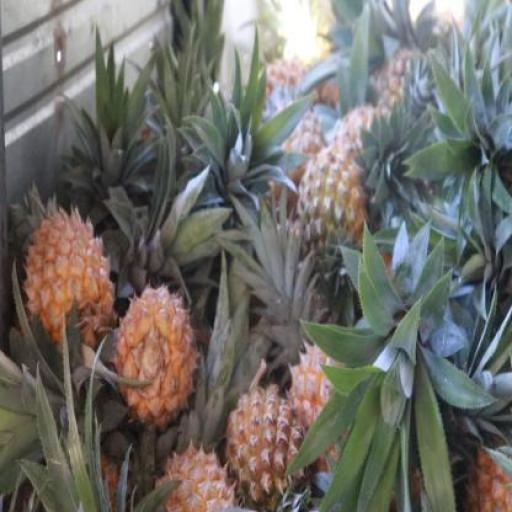Pineapple - v8 v1: (22, 209, 112, 355), (116, 282, 195, 416), (225, 378, 302, 509), (153, 432, 235, 512)
